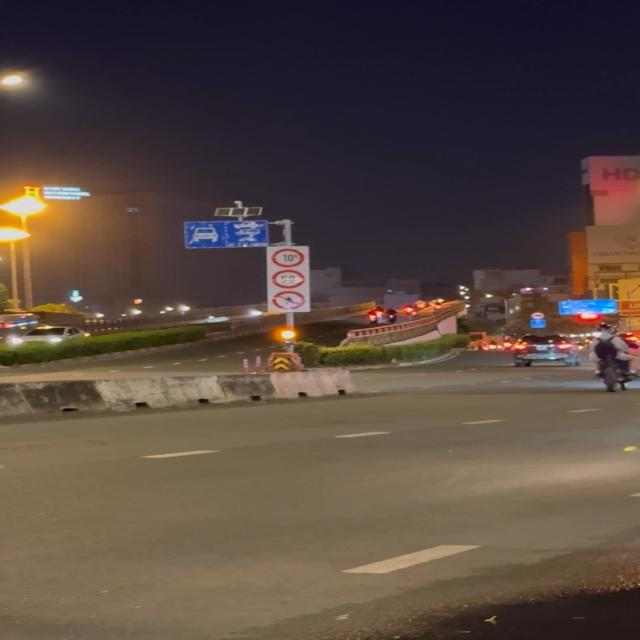Bien bao cam nguoi di bo: (272, 290, 308, 312)
Bien bao toc do toi da cho phep: (268, 268, 308, 290)
